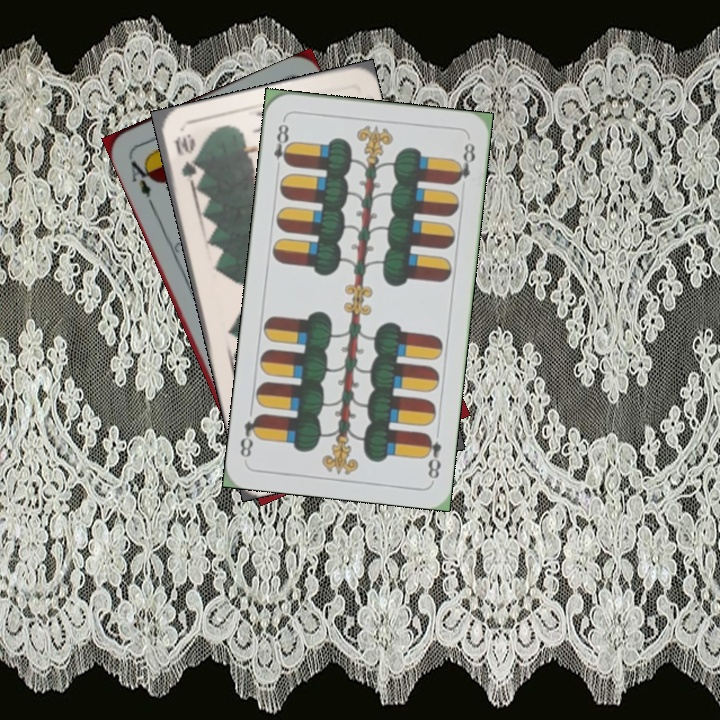E8: (270, 115, 294, 174), (420, 429, 444, 481)
EA: (124, 152, 157, 209)
G10: (170, 130, 202, 188)
